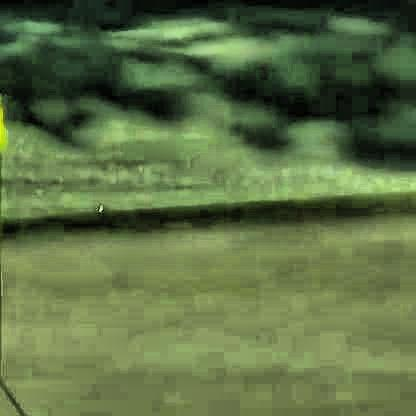golfball: (96, 199, 101, 209)
